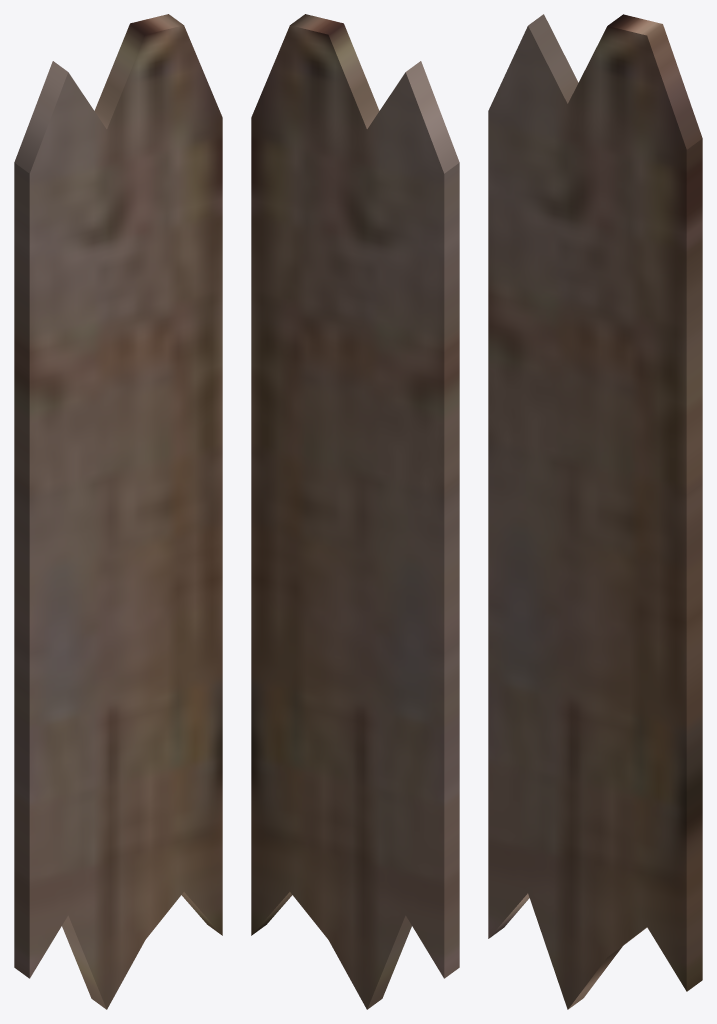
File: mokuzai_2.fbx
3 renders of one model, left to right at view 1: azimuth 30°, elevation 25°; view 2: azimuth 150°, elevation 25°; view 3: azimuth 330°, elevation 25°, orthographic. The views are drawn at different scales.
Visible parts, largest first — view 1: pCube7; view 2: pCube7; view 3: pCube7.
Boxes of the visible parts, box(x1,y1,x2,y2) form: pCube7: box(14, 14, 222, 1009); pCube7: box(251, 14, 459, 1009); pCube7: box(488, 14, 702, 1009).
Bounding box in the file's own units: 1.49 × 7.14 × 0.2064.
